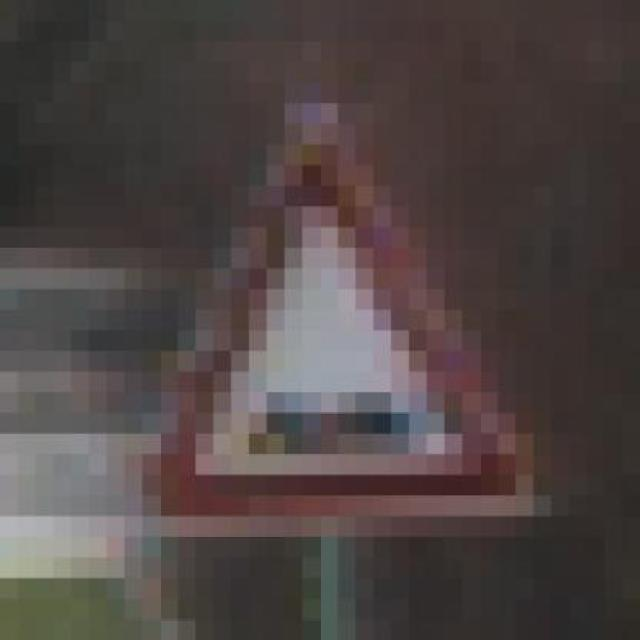Uneven Road: (107, 62, 551, 558)
